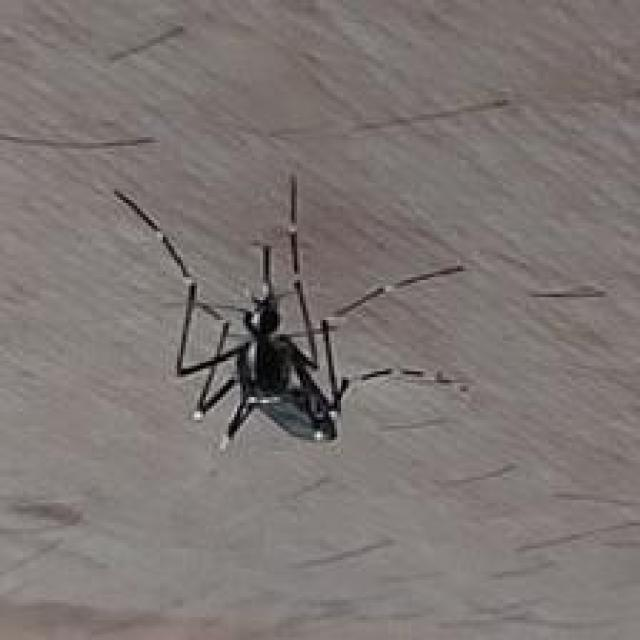Aedes albopictus: (112, 172, 474, 454)
